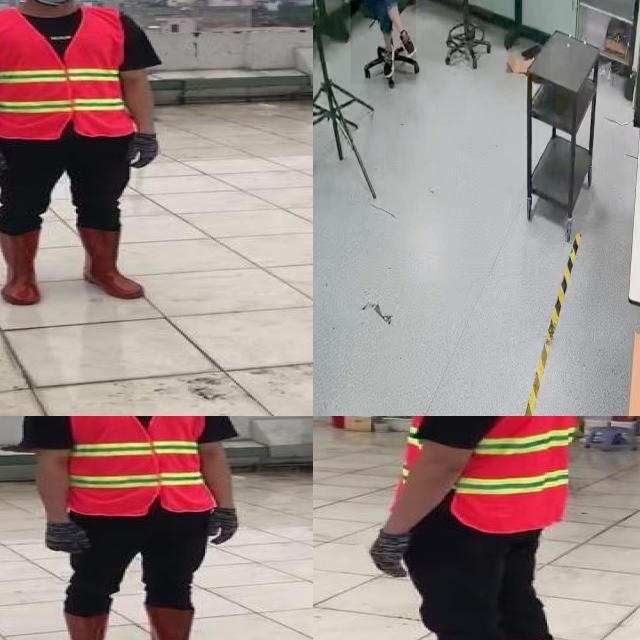boots: (74, 226, 146, 299), (0, 228, 45, 304), (144, 604, 226, 640), (61, 610, 116, 640)
hand_glove: (371, 533, 415, 579), (38, 523, 93, 553), (205, 510, 244, 544), (126, 134, 158, 169), (0, 145, 10, 179)
person: (0, 0, 179, 310), (350, 416, 595, 640), (22, 416, 236, 640), (350, 0, 416, 84)
shoes: (380, 38, 396, 82), (398, 26, 418, 60)
vest: (385, 416, 582, 534), (0, 5, 133, 137), (57, 416, 215, 514)
